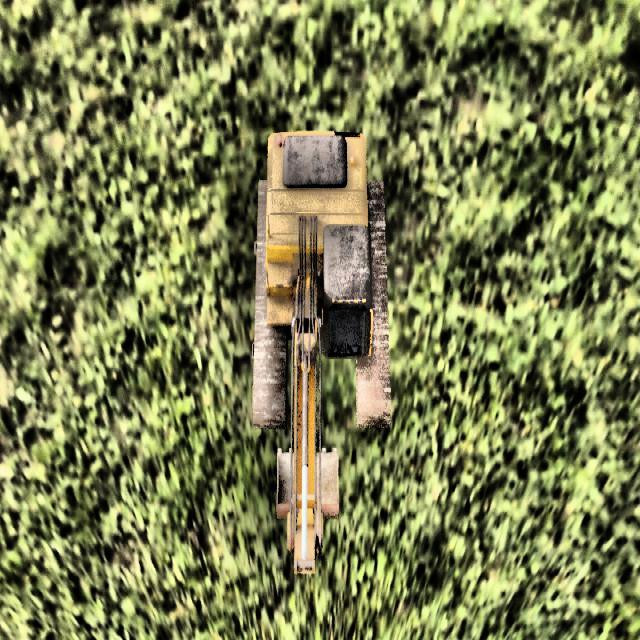excavator: (251, 132, 391, 574)
